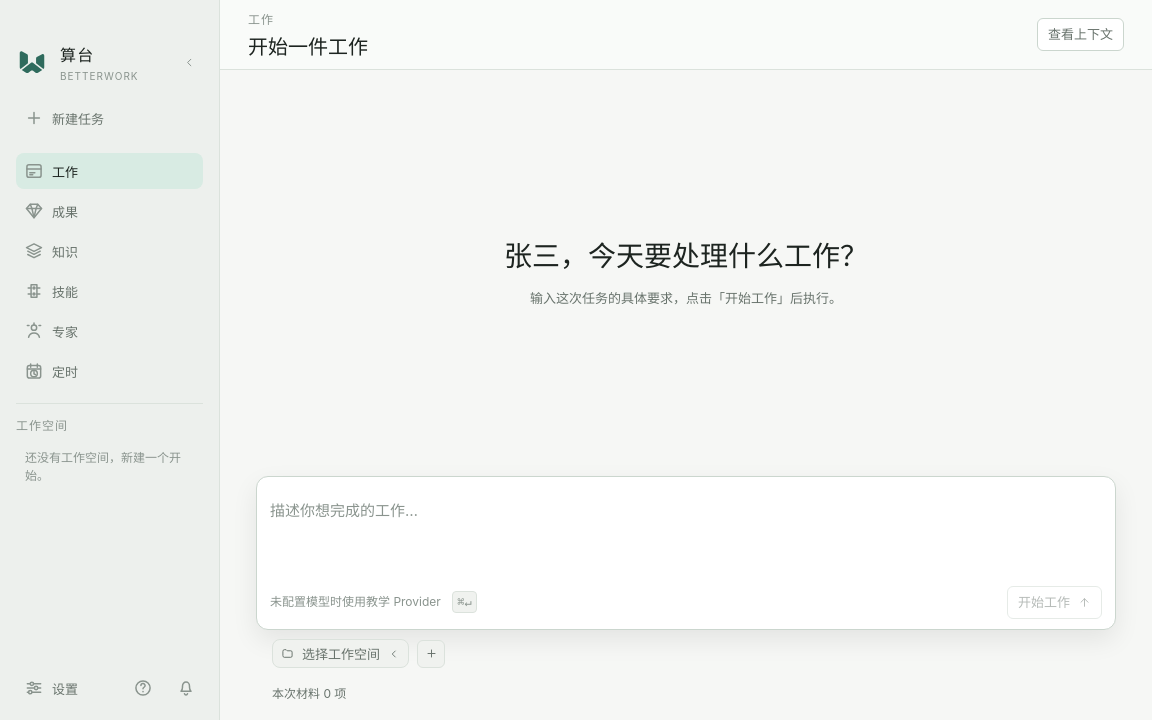
Test: Skill test run in the task composer › 启动回执之前已结束的 Run 保留事件，补读失败=false
Click the button "技能".
click(110, 291)  # box [16,273,203,309]
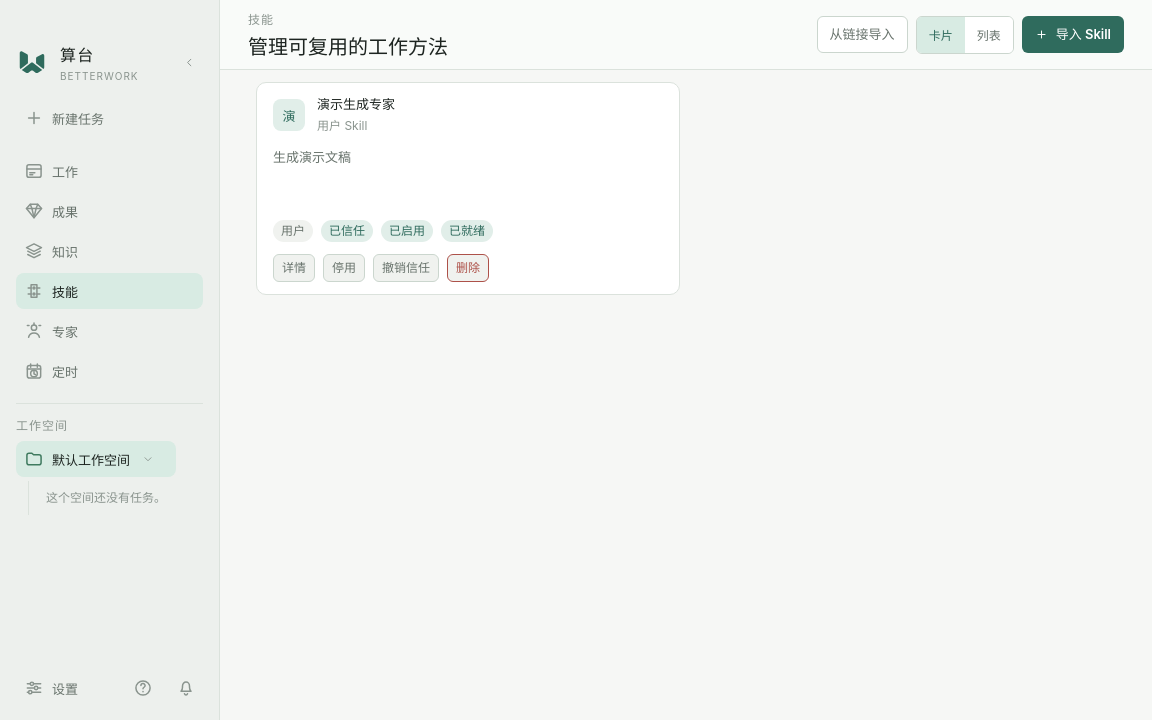
Click the button "演 演示生成专家 用户 Skill 生成演示文稿".
click(289, 115)  # box [273,95,663,208]
(page scrolled)
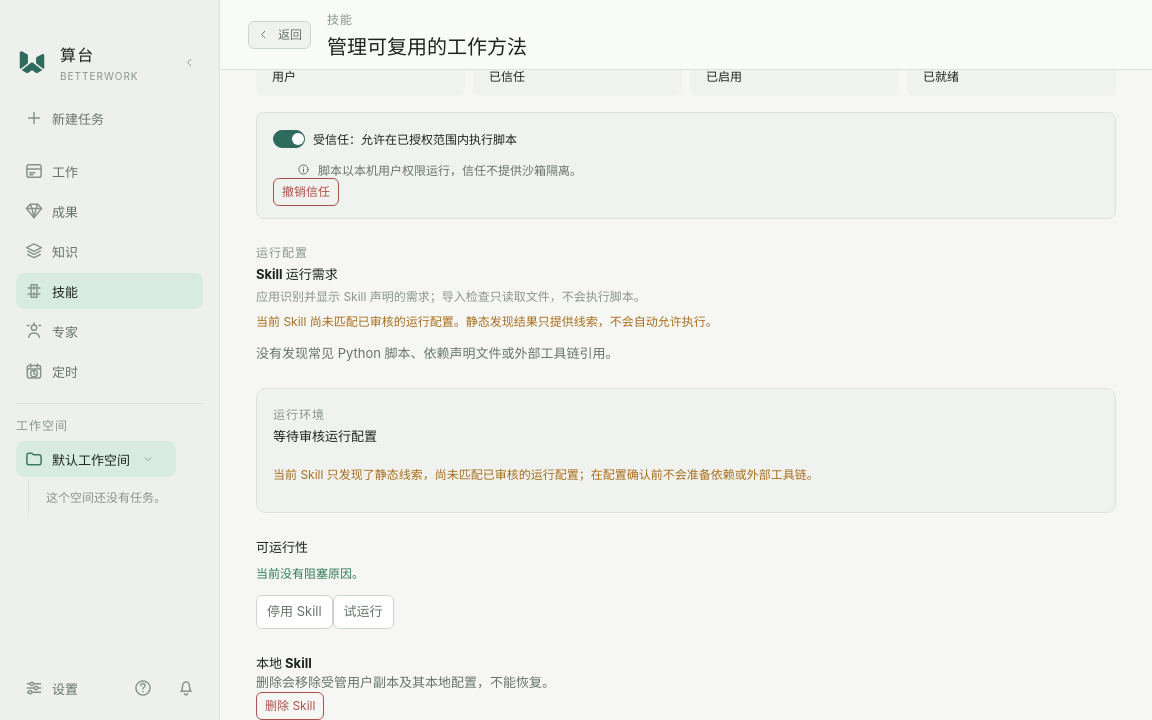
Click the button "试运行".
click(363, 612)  # box [333,595,394,629]
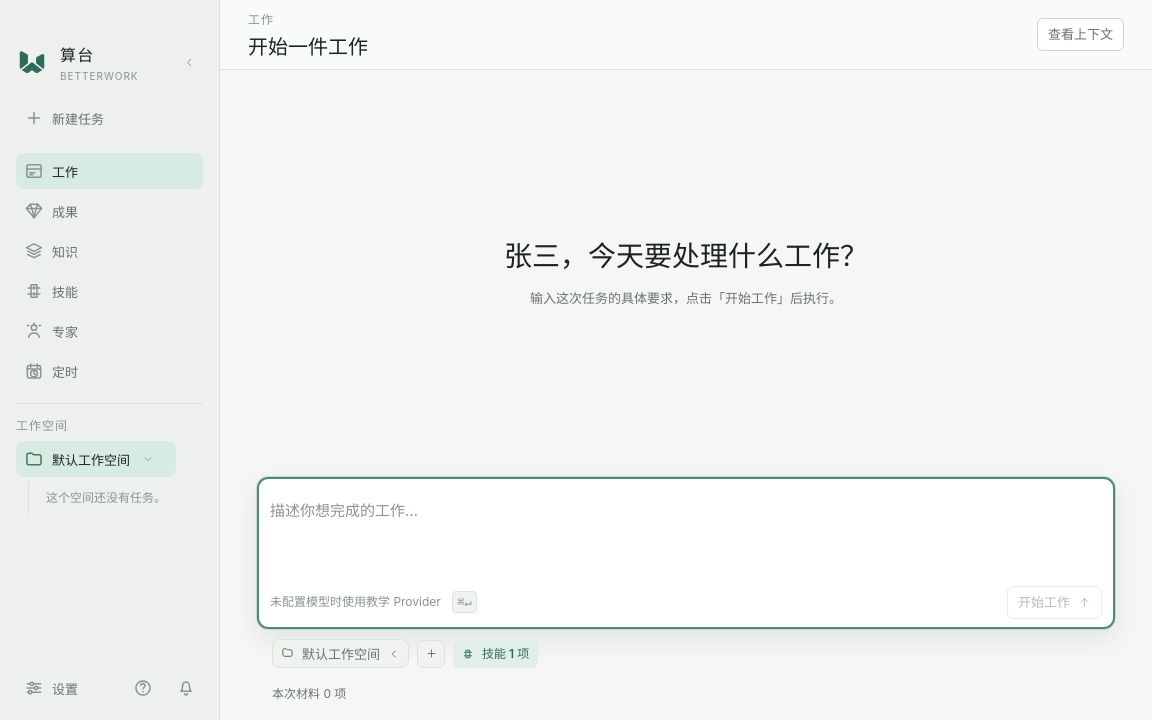
Check: the button "技能 1 项" is shown, box [453,640,538,668]
Type "使用「中电金信」模板，生成两页演示文稿——封面 + 一页内容页。" into the text box named "任务输入".
click(686, 534); type("使用「中电金信」模板，生成两页演示文稿——封面 + 一页内容页。")  # box [270,488,1102,582]
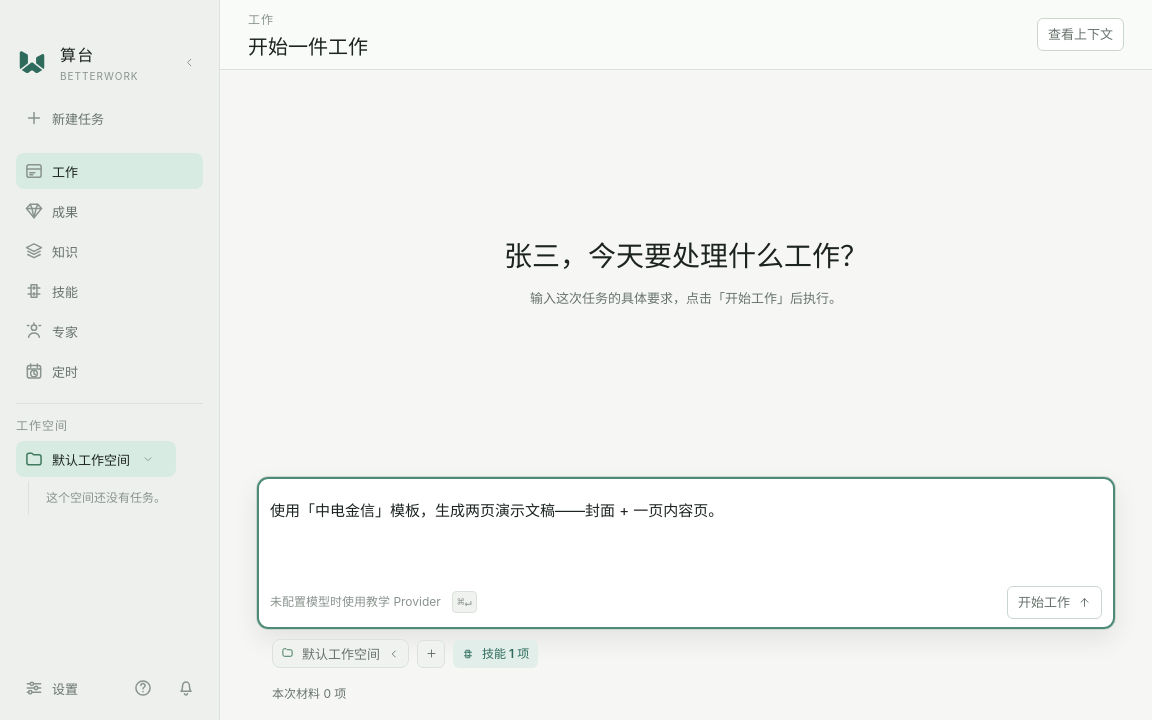
Click the button "开始工作".
click(1054, 602)  # box [1007,586,1102,619]
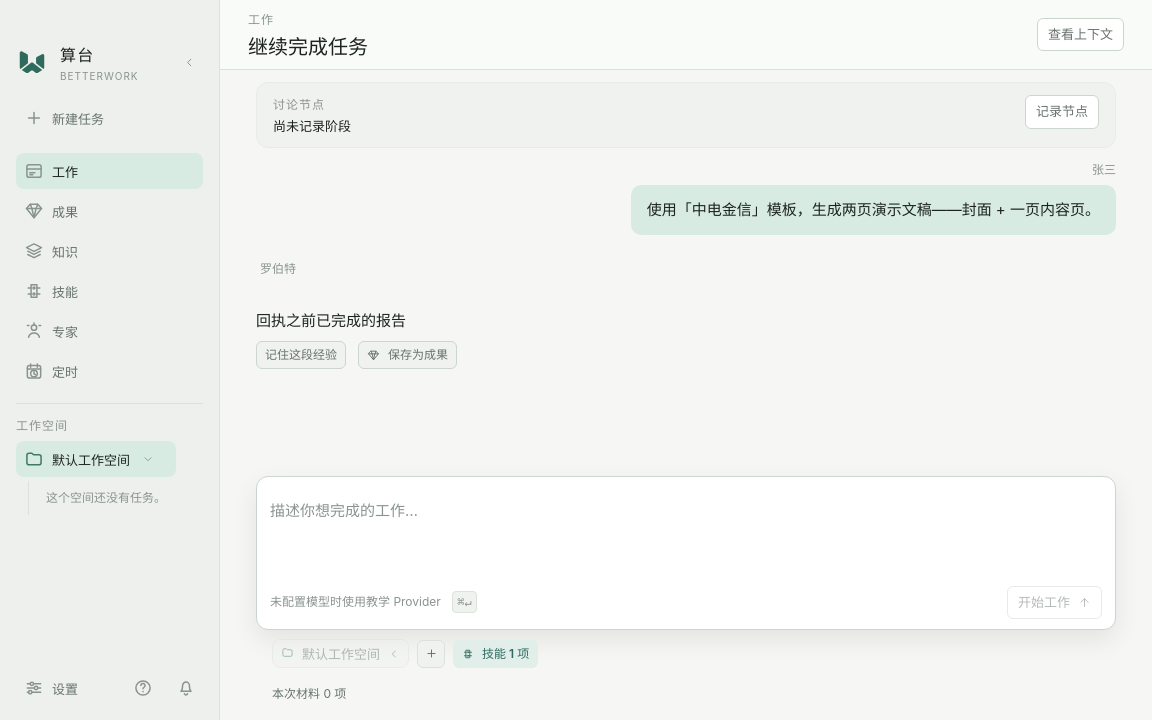
Check: the text "回执之前已完成的报告" is shown, box [256,310,406,330]
Check: the button "记住这段经验" is shown, box [256,341,346,369]
